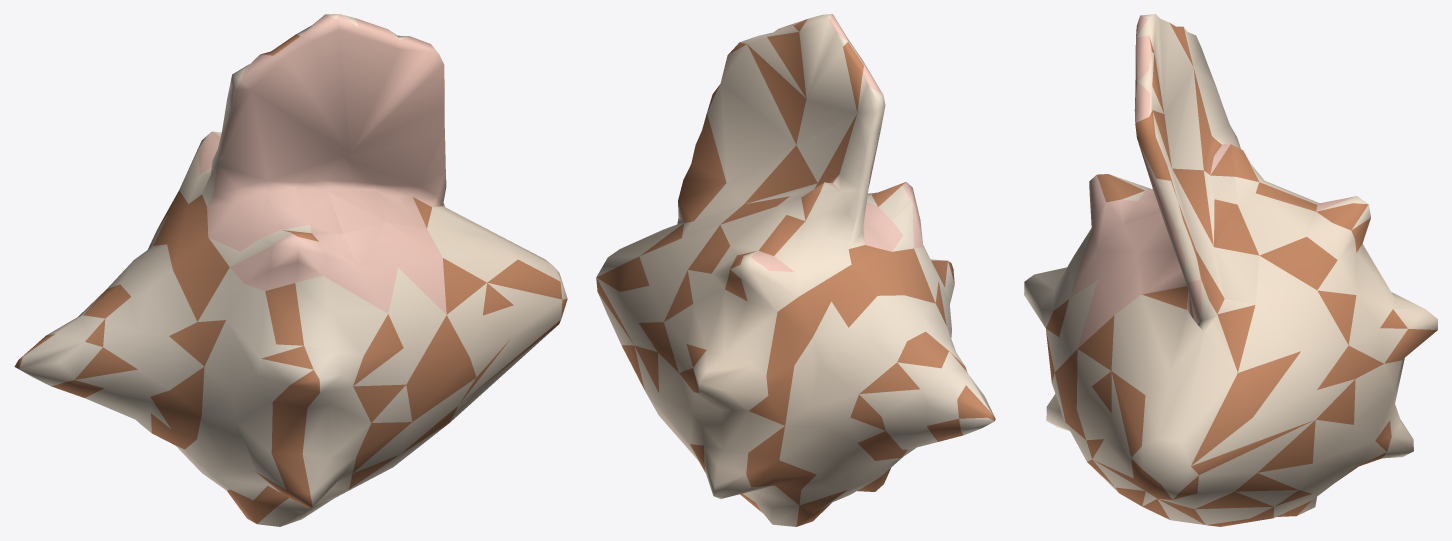
File: shore_conch_lod2.glb
The picture shows the model from 3 angles, left to right: view 1: azimuth 30°, elevation 25°; view 2: azimuth 150°, elevation 25°; view 3: azimuth 270°, elevation 25°; orthographic projection. The views are drawn at different scales.
Parts seen in each view (by area): view 1: shore_conch.001; view 2: shore_conch.001; view 3: shore_conch.001.
Part boxes in pixels (x1,y1,x2,y2): shore_conch.001: (14,14,567,526); shore_conch.001: (596,14,995,526); shore_conch.001: (1024,14,1437,526).
Bounding box in the file's own units: 4.72 × 4.6 × 3.43.
